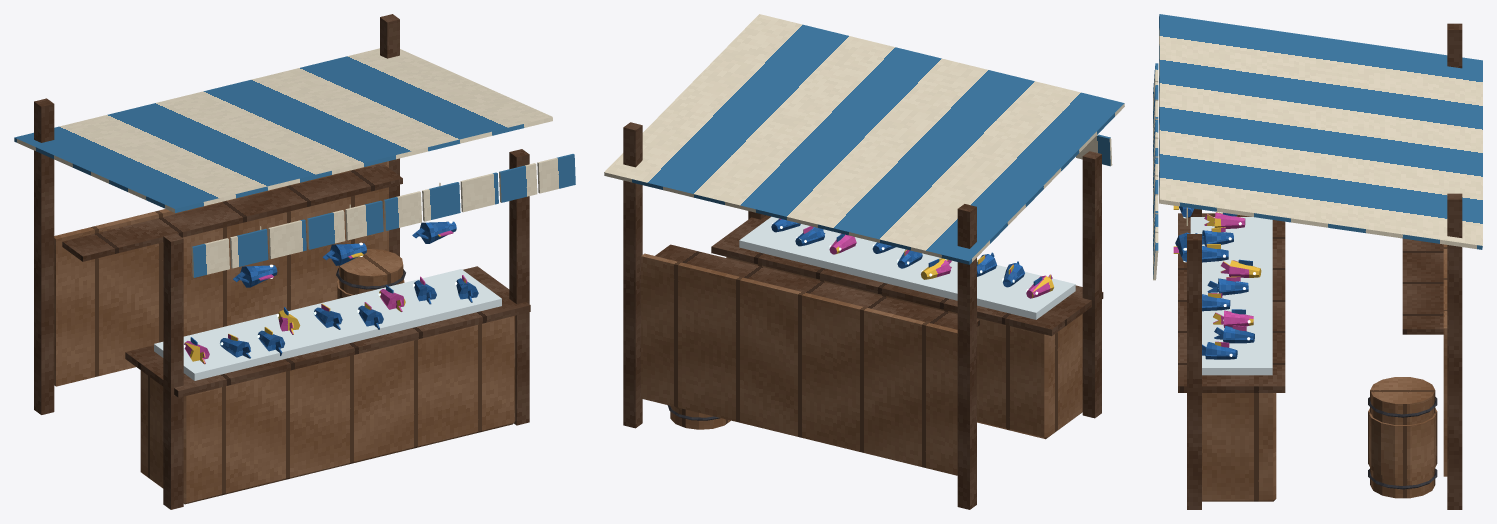
File: market_stall_fish.glb
3 views of the same model, side by side, from view 1: azimuth 30°, elevation 25°; view 2: azimuth 150°, elevation 25°; view 3: azimuth 270°, elevation 25° (orthographic). The views are drawn at different scales.
Visible parts, largest first — view 1: body; view 2: body; view 3: body.
Boxes of the visible parts, x1,y1,x2,y2 form: body: [14, 14, 575, 509]; body: [604, 14, 1124, 509]; body: [1153, 14, 1482, 509].
Size of the model in its own units: 3.11 by 2.34 by 2.22.
Materials: 10 (6 with a texture image).
